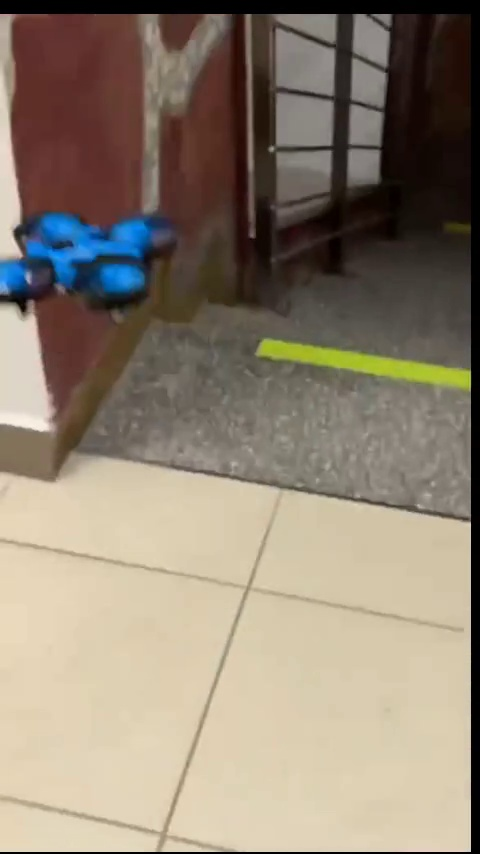drone: (2, 213, 176, 321)
